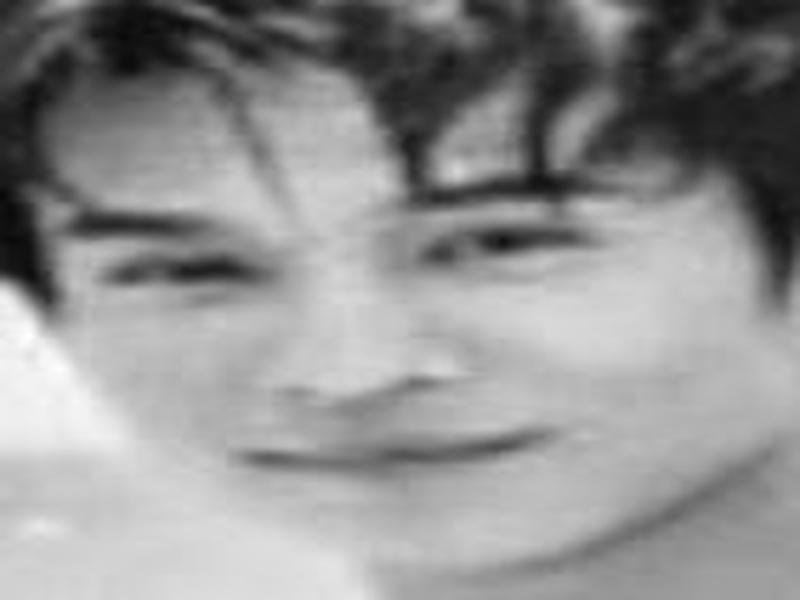without_mask: (21, 53, 761, 580)
